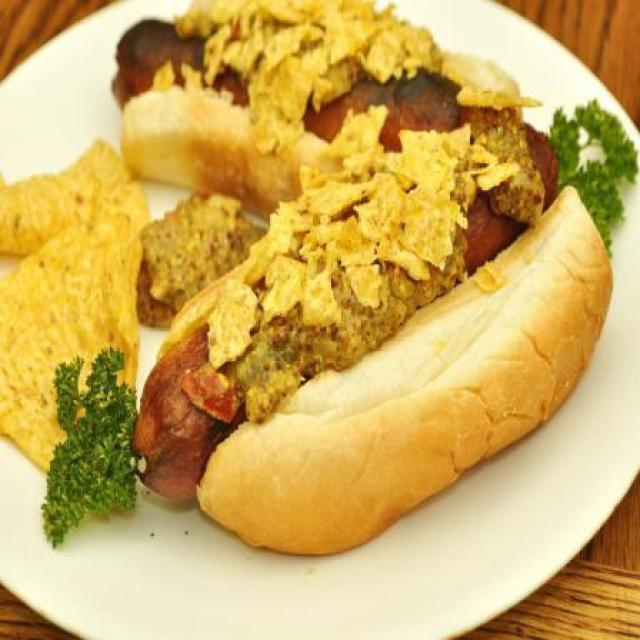Hot Dog: (132, 102, 614, 552), (109, 1, 546, 178)
